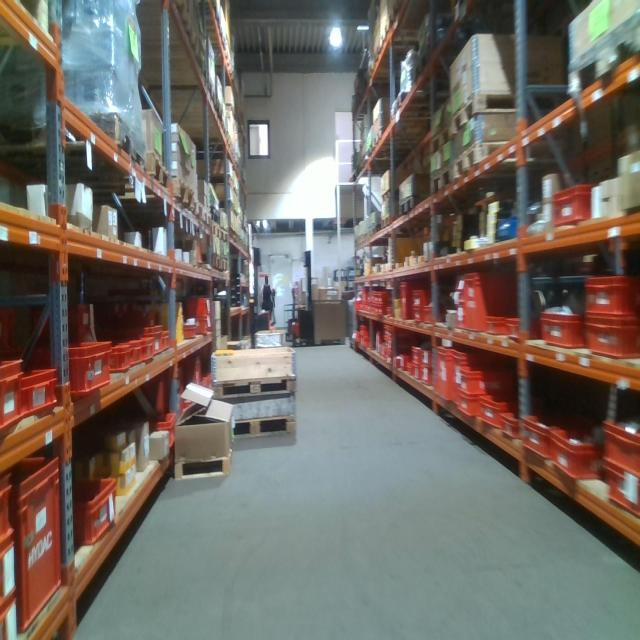pallet: (2, 117, 150, 185), (566, 10, 639, 94), (450, 91, 569, 133), (454, 140, 566, 182), (102, 146, 172, 198), (212, 370, 300, 404), (139, 1, 194, 55), (1, 2, 52, 50), (148, 177, 199, 217), (232, 412, 297, 441), (373, 125, 417, 154), (431, 164, 456, 199), (430, 124, 452, 160), (190, 206, 214, 233), (389, 0, 412, 25), (400, 196, 427, 217), (198, 255, 221, 272), (379, 213, 400, 230), (203, 82, 216, 109), (204, 221, 222, 239), (382, 188, 401, 203), (218, 228, 229, 244), (222, 255, 230, 275)
pallet_truck: (285, 243, 317, 347), (251, 246, 278, 330), (288, 279, 296, 339)
small_load_carrier: (16, 455, 66, 633), (63, 473, 120, 559), (34, 338, 112, 397), (464, 266, 517, 339), (548, 415, 609, 478), (521, 408, 576, 462), (20, 355, 64, 422), (598, 415, 638, 479), (583, 271, 638, 317), (2, 354, 32, 435), (548, 180, 594, 228), (451, 347, 484, 413), (602, 463, 639, 520), (585, 318, 639, 357), (458, 363, 514, 397), (546, 314, 588, 352), (479, 392, 513, 431), (2, 454, 14, 561), (436, 342, 455, 401), (157, 401, 178, 449), (184, 356, 204, 406), (1, 542, 14, 616), (176, 294, 213, 316), (401, 277, 417, 320), (455, 390, 479, 416), (111, 344, 133, 372), (125, 337, 143, 370), (500, 413, 521, 441), (508, 317, 528, 346), (146, 328, 165, 358), (485, 312, 508, 336), (138, 335, 156, 364), (412, 288, 433, 310), (157, 328, 175, 350), (419, 365, 434, 390), (424, 306, 443, 323), (455, 308, 470, 329), (177, 328, 198, 342), (198, 317, 213, 335), (408, 345, 423, 362), (453, 274, 467, 292), (421, 347, 435, 365), (455, 292, 468, 308), (410, 366, 422, 383), (412, 310, 422, 327)
